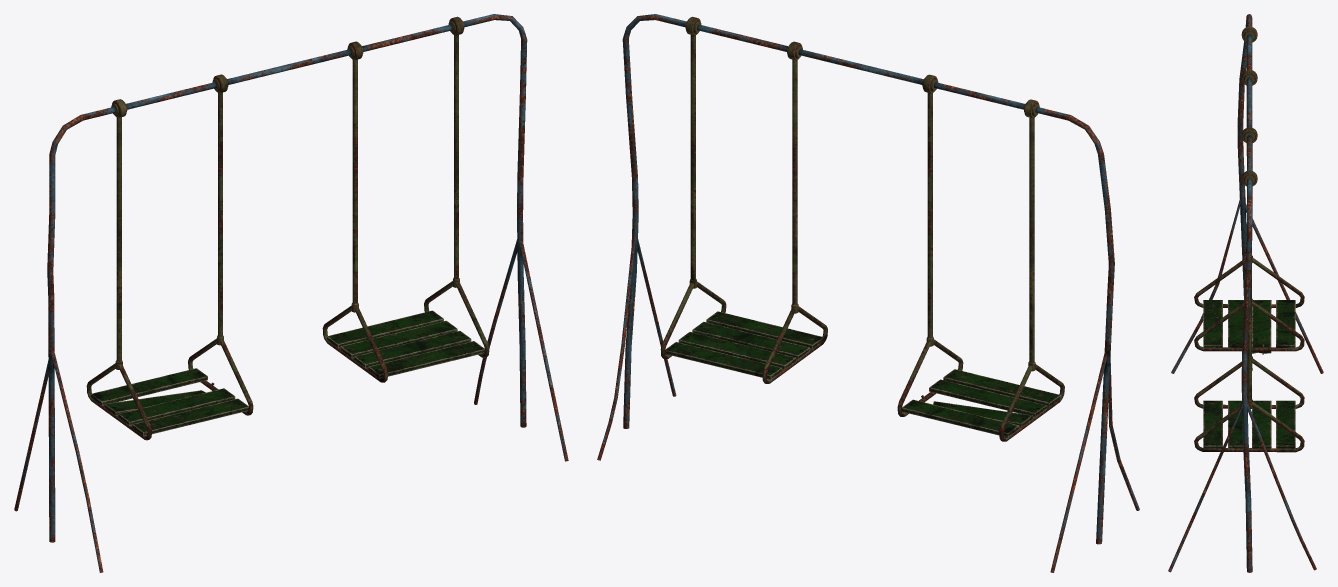
File: CPG_02.fbx
3 views of the same model, side by side, from view 1: azimuth 30°, elevation 25°; view 2: azimuth 150°, elevation 25°; view 3: azimuth 270°, elevation 25° (orthographic). The views are drawn at different scales.
Visible parts, largest first — view 1: CPG_02; view 2: CPG_02; view 3: CPG_02.
Part boxes in pixels (x1,y1,x2,y2): CPG_02: (14,14,568,572); CPG_02: (597,14,1139,572); CPG_02: (1168,14,1323,572).
Bounding box in the file's own units: 288 × 242 × 91.39.
